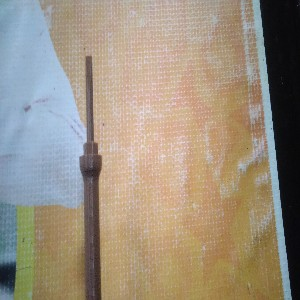obeng: (78, 53, 104, 300)
